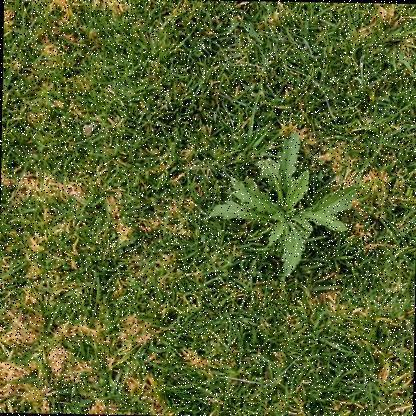Weeds: (209, 131, 359, 277)
